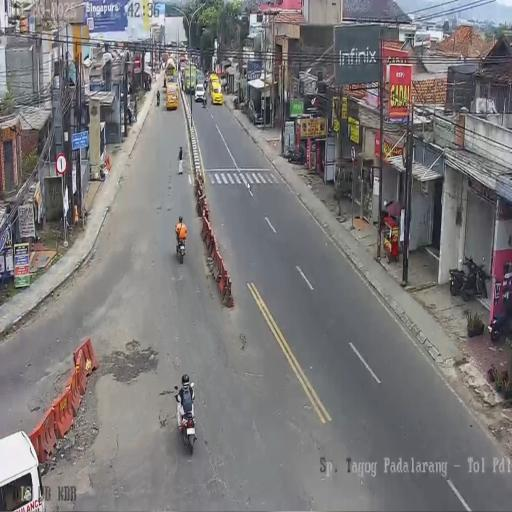car: (0, 430, 45, 511), (211, 74, 223, 104), (194, 82, 205, 103)
motorcycle: (489, 269, 512, 340), (174, 383, 196, 455), (459, 255, 487, 300), (286, 143, 305, 165), (175, 228, 186, 265), (233, 93, 239, 109), (154, 74, 156, 83)
truck: (184, 63, 198, 95), (164, 58, 176, 88), (179, 58, 186, 75)
